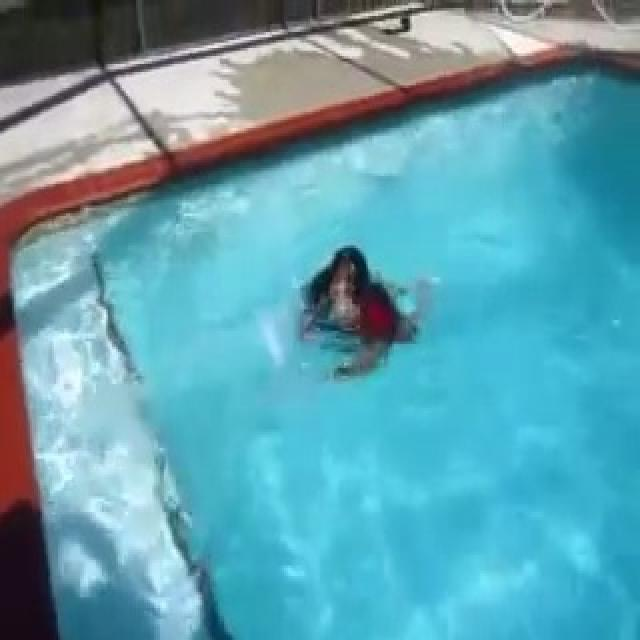drowning: (279, 222, 429, 388)
